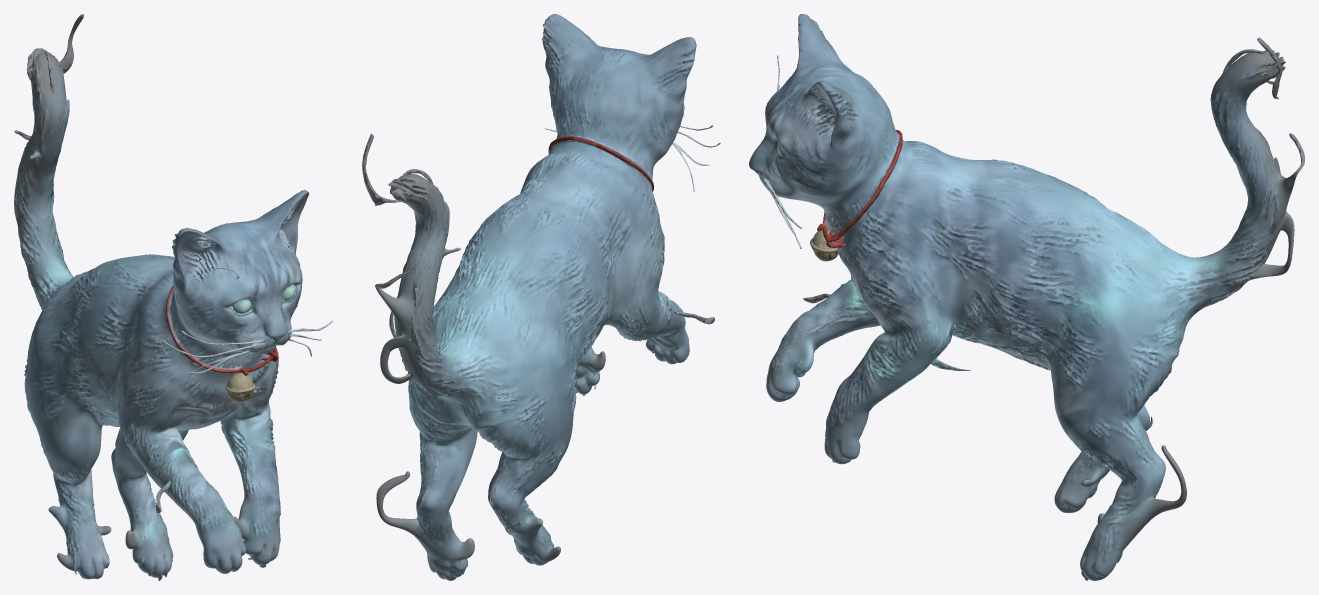
Rendered from vong-linh-meo-nha.glb.
3 renders of one model, left to right at view 1: azimuth 30°, elevation 25°; view 2: azimuth 150°, elevation 25°; view 3: azimuth 270°, elevation 25°, orthographic. The views are drawn at different scales.
Visible parts, largest first — view 1: tripo_node_2e59bcbf-d6ab-4256-861a-1c340416e42f; view 2: tripo_node_2e59bcbf-d6ab-4256-861a-1c340416e42f; view 3: tripo_node_2e59bcbf-d6ab-4256-861a-1c340416e42f.
Boxes of the visible parts, left/top/right/bottom form: tripo_node_2e59bcbf-d6ab-4256-861a-1c340416e42f: left=14, top=14, right=333, bottom=580; tripo_node_2e59bcbf-d6ab-4256-861a-1c340416e42f: left=362, top=14, right=720, bottom=580; tripo_node_2e59bcbf-d6ab-4256-861a-1c340416e42f: left=749, top=14, right=1304, bottom=580.
Size of the model in its own units: 0.3567 by 0.9859 by 0.9138.
1 material, 1 textured.
